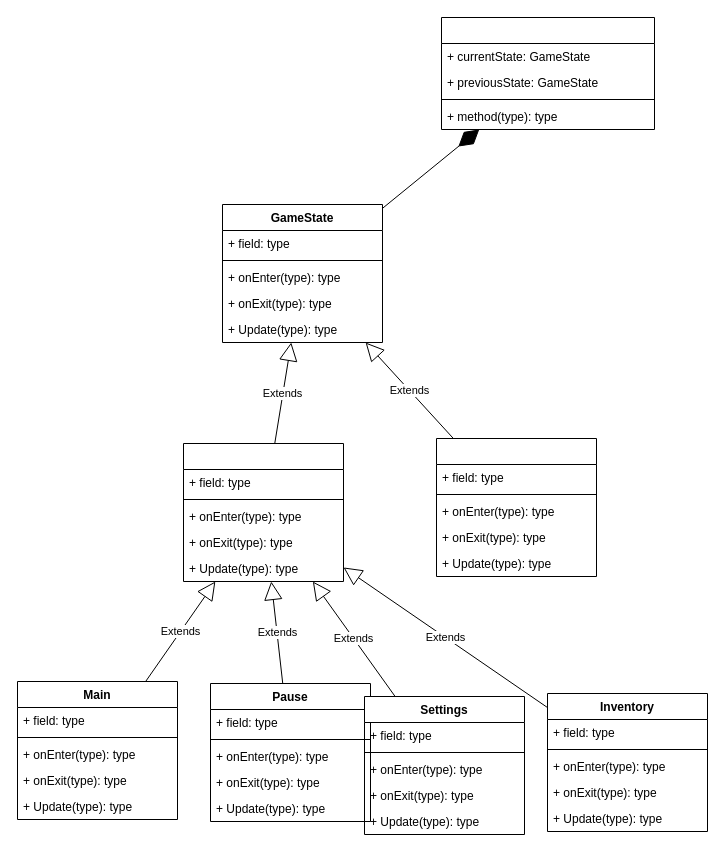
Image size: 725x855. Some labels were removed from this diagram. The shapes that lost their labels are listed below. From the top down, each one's box as (x1, y1, x2, y2) in pixels, then its label:
(440, 16, 654, 130): StateManager
(182, 442, 344, 582): Menu
(436, 438, 596, 576): ActiveGameplay
